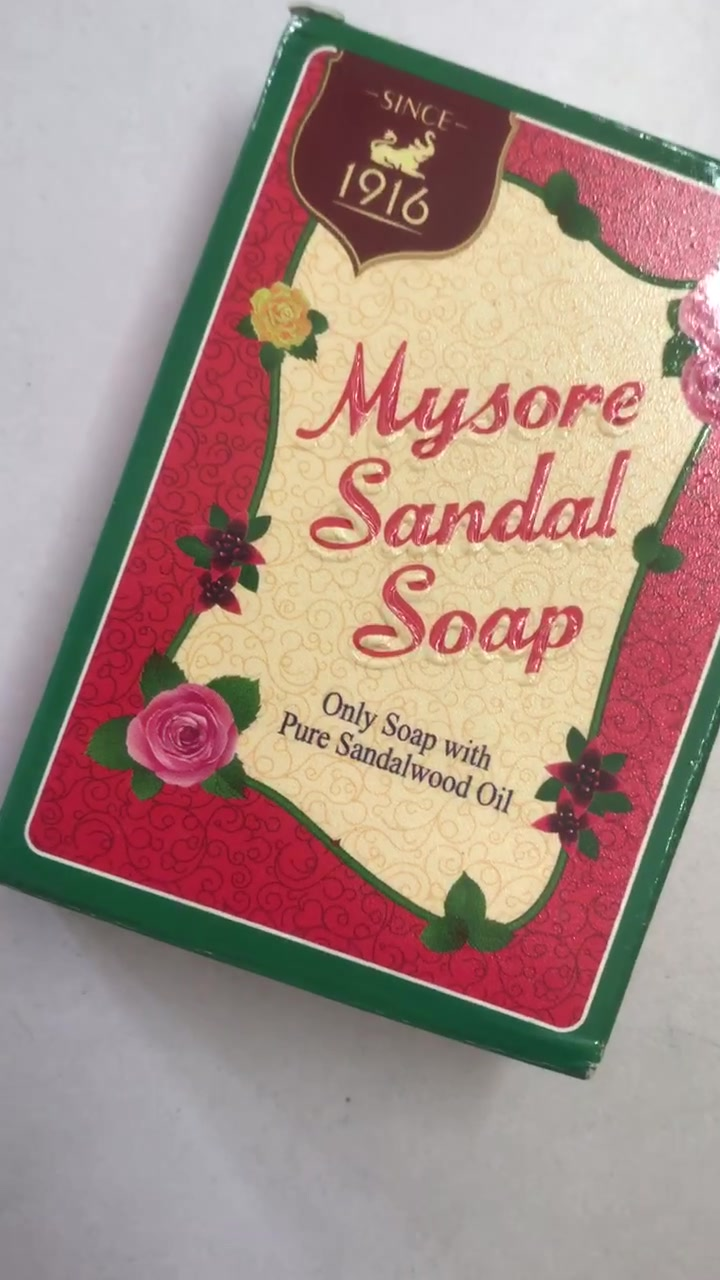mysore sandal soap: (8, 10, 713, 1082)
